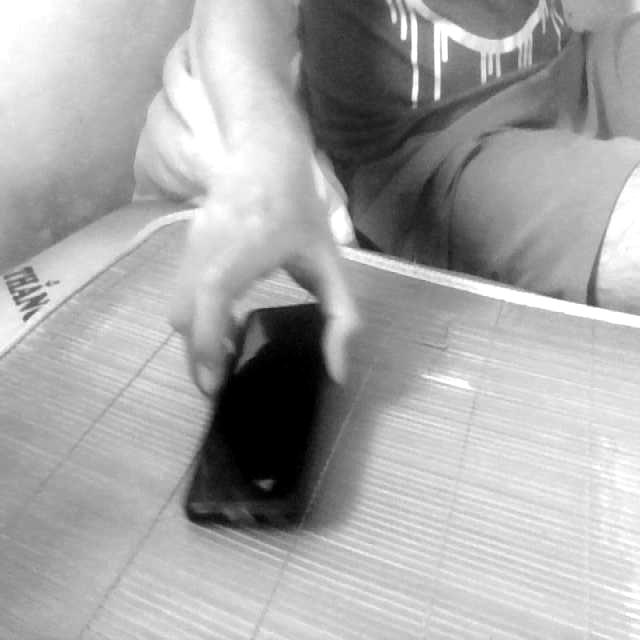phone: (168, 268, 352, 548)
